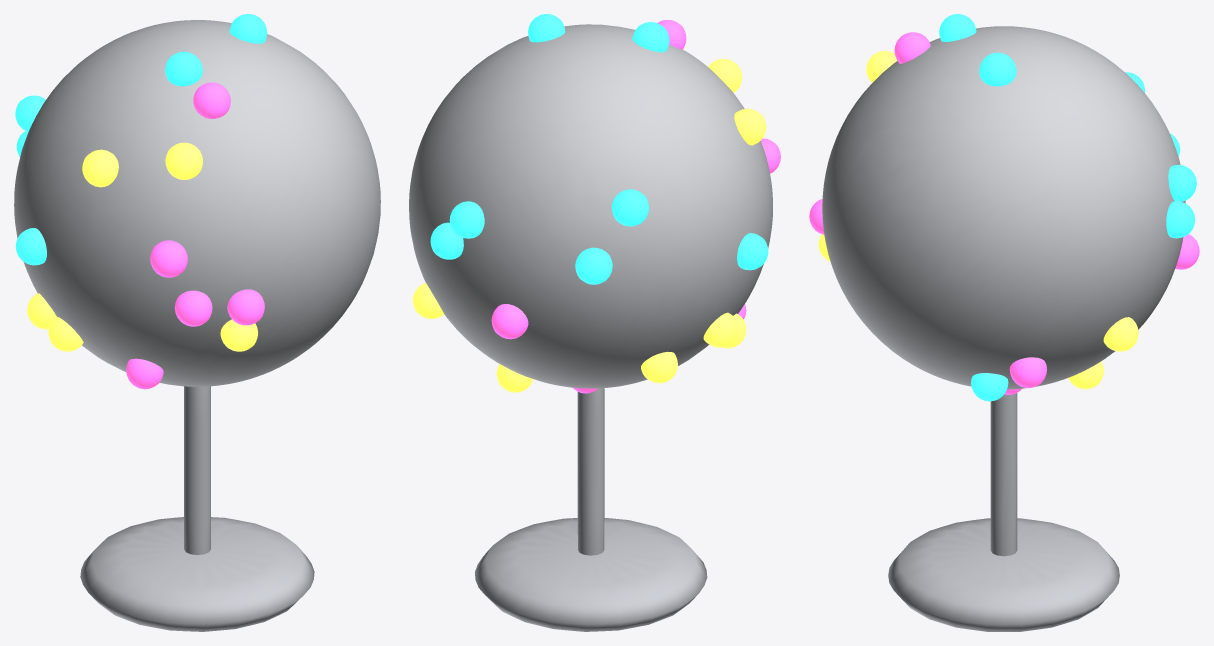
Rendered from deco_bola_disco.glb.
3 renders of one model, left to right at view 1: azimuth 30°, elevation 25°; view 2: azimuth 150°, elevation 25°; view 3: azimuth 270°, elevation 25°, orthographic.
Visible parts, largest first — view 1: bola disco.001, base bola.001, palo bola.001, reflejo 12.001, reflejo 2.001, reflejo 18.001, reflejo 0.001, reflejo 23.001, reflejo 9.001, reflejo 16.001, reflejo 10.001, reflejo 11.001 (+5 smaller); view 2: bola disco.001, base bola.001, palo bola.001, reflejo 13.001, reflejo 4.001, reflejo 19.001, reflejo 21.001, reflejo 10.001, reflejo 1.001, reflejo 17.001, reflejo 23.001, reflejo 16.001 (+5 smaller); view 3: bola disco.001, base bola.001, palo bola.001, reflejo 22.001, reflejo 3.001, reflejo 20.001, reflejo 1.001, reflejo 7.001, reflejo 19.001, reflejo 18.001, reflejo 16.001, reflejo 2.001 (+2 smaller).
Boxes of the visible parts, left/top/right/bottom form: bola disco.001: left=14, top=20, right=380, bottom=386; base bola.001: left=80, top=517, right=314, bottom=631; palo bola.001: left=184, top=386, right=210, bottom=554; reflejo 12.001: left=150, top=240, right=187, bottom=277; reflejo 2.001: left=165, top=142, right=202, bottom=179; reflejo 18.001: left=193, top=82, right=230, bottom=118; reflejo 0.001: left=174, top=290, right=212, bottom=326; reflejo 23.001: left=82, top=149, right=118, bottom=187; reflejo 9.001: left=227, top=289, right=264, bottom=325; reflejo 16.001: left=165, top=51, right=202, bottom=86; reflejo 10.001: left=15, top=228, right=46, bottom=265; reflejo 11.001: left=220, top=319, right=257, bottom=351; bola disco.001: left=409, top=24, right=772, bottom=388; base bola.001: left=475, top=518, right=707, bottom=631; palo bola.001: left=577, top=388, right=604, bottom=555; reflejo 13.001: left=611, top=189, right=648, bottom=226; reflejo 4.001: left=575, top=247, right=612, bottom=284; reflejo 19.001: left=449, top=201, right=484, bottom=238; reflejo 21.001: left=491, top=304, right=528, bottom=339; reflejo 10.001: left=737, top=233, right=768, bottom=270; reflejo 1.001: left=430, top=222, right=463, bottom=259; reflejo 17.001: left=641, top=351, right=677, bottom=383; reflejo 23.001: left=734, top=108, right=766, bottom=145; reflejo 16.001: left=632, top=22, right=669, bottom=52; bola disco.001: left=822, top=26, right=1185, bottom=389; base bola.001: left=888, top=518, right=1119, bottom=631; palo bola.001: left=990, top=393, right=1017, bottom=556; reflejo 22.001: left=979, top=52, right=1016, bottom=86; reflejo 3.001: left=1009, top=357, right=1046, bottom=388; reflejo 20.001: left=1103, top=317, right=1138, bottom=351; reflejo 1.001: left=1166, top=201, right=1195, bottom=238; reflejo 7.001: left=971, top=373, right=1008, bottom=401; reflejo 19.001: left=1168, top=165, right=1196, bottom=201; reflejo 18.001: left=894, top=32, right=930, bottom=63; reflejo 16.001: left=939, top=14, right=976, bottom=41; reflejo 2.001: left=866, top=51, right=897, bottom=82.
Size of the model in its own units: 0.1898 by 0.3061 by 0.1925.
